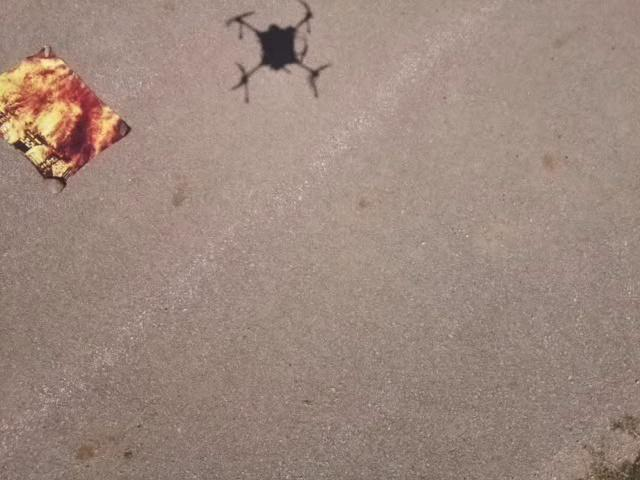fire-poster: (0, 43, 133, 195)
